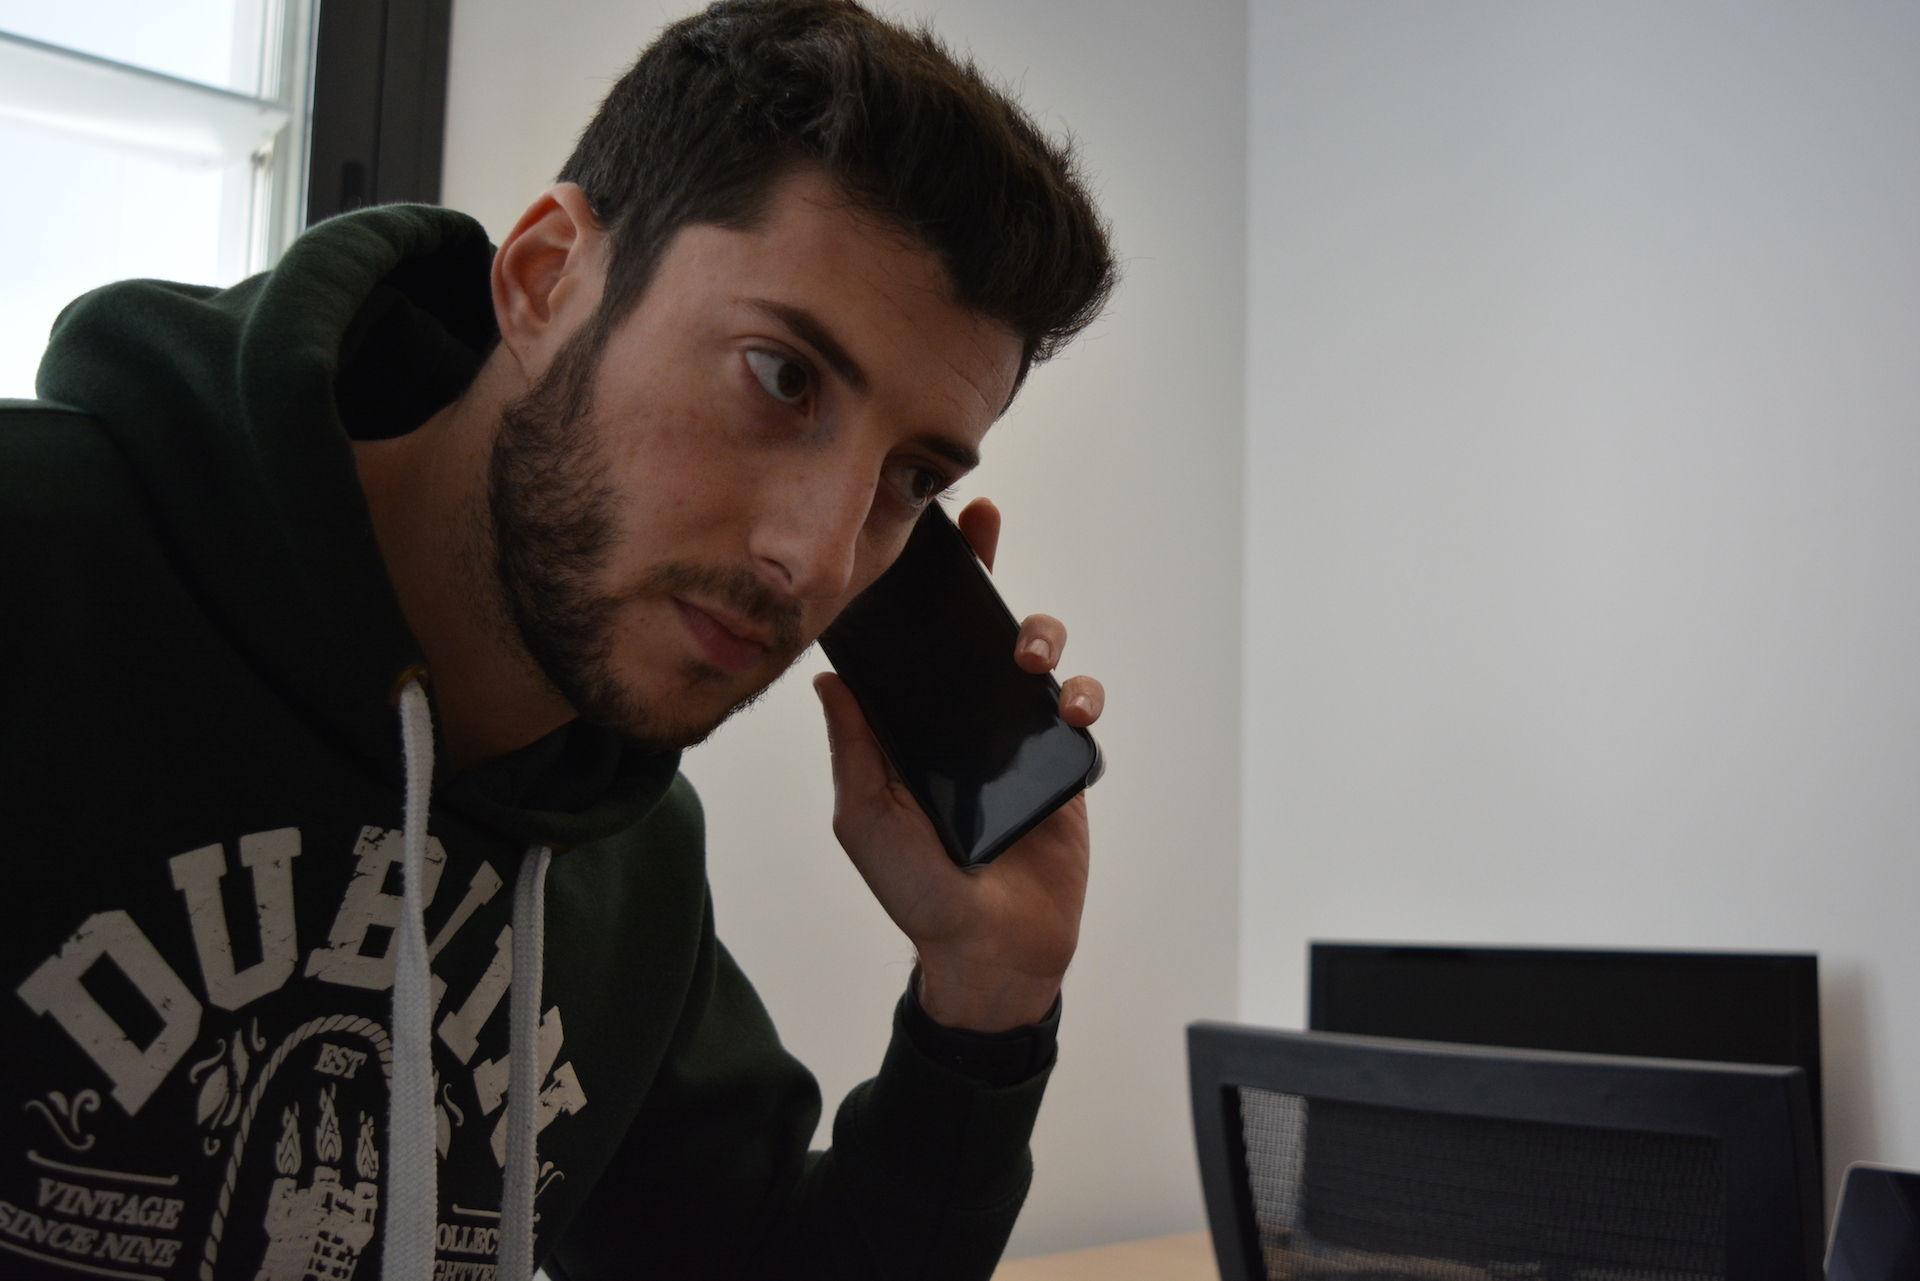smartphone: (813, 492, 1108, 876)
